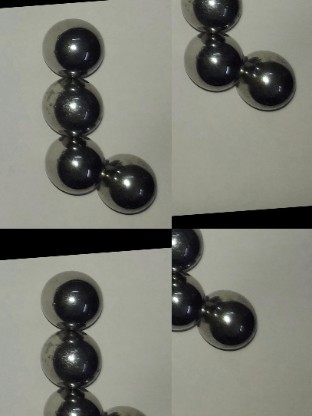ironball: (40, 16, 114, 80), (183, 28, 250, 95), (235, 43, 299, 113), (38, 266, 106, 330), (202, 283, 260, 358), (40, 78, 106, 143), (39, 135, 110, 194), (40, 328, 106, 389), (96, 150, 160, 212), (171, 268, 209, 337), (182, 0, 242, 38), (174, 229, 215, 269), (39, 391, 104, 415)
